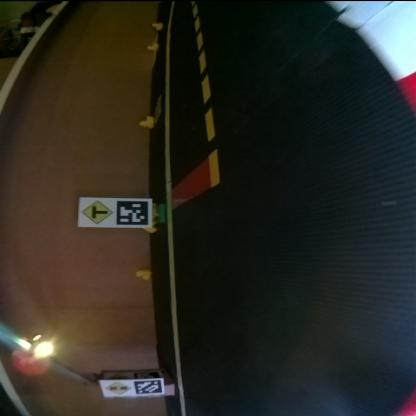Duckie: (140, 221, 156, 232), (138, 116, 152, 128), (136, 269, 152, 279), (146, 42, 158, 51), (150, 23, 162, 30)
Intersection sign: (80, 200, 112, 224)
QR code: (114, 198, 150, 226), (134, 380, 162, 395), (132, 371, 158, 378)
Signal sign: (103, 380, 131, 396)
